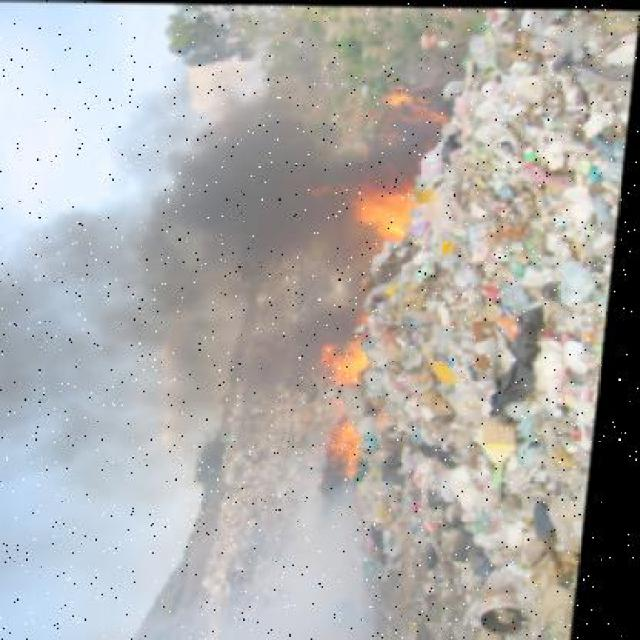fire: (329, 143, 435, 477)
